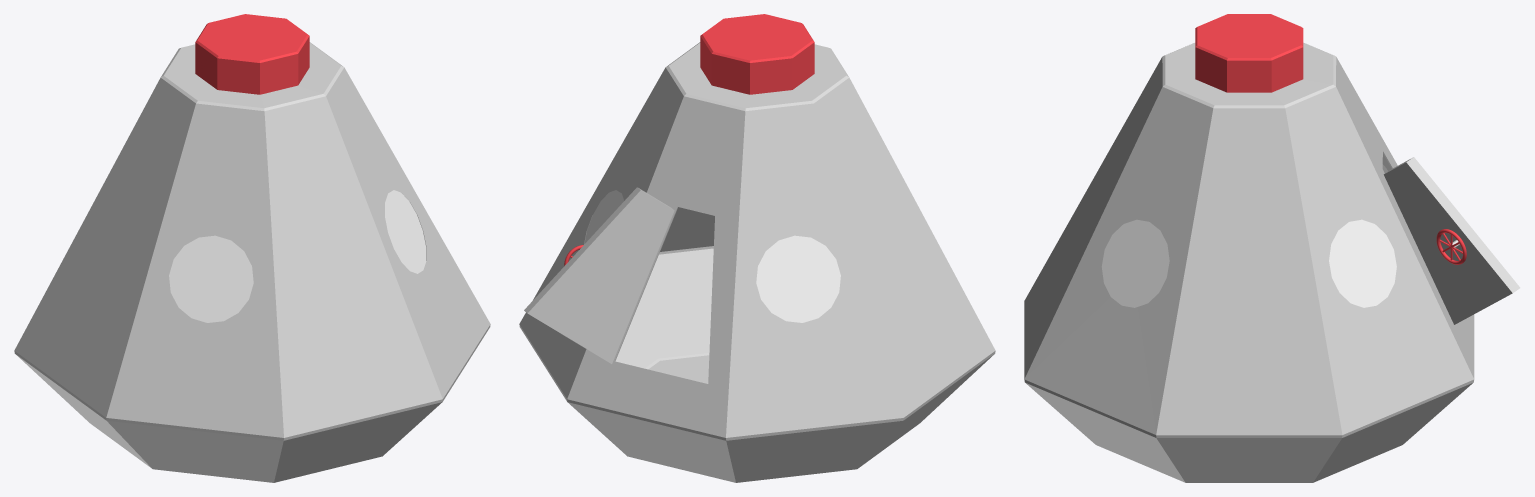
File: Pod.glb
The picture shows the model from 3 angles, left to right: view 1: azimuth 30°, elevation 25°; view 2: azimuth 150°, elevation 25°; view 3: azimuth 270°, elevation 25°; orthographic projection.
Parts seen in each view (by area): view 1: Pod, WindowOut, Top, WindowIn; view 2: Pod, Door, Top, WindowOut, WindowIn; view 3: Pod, WindowOut, Door, Top, WindowIn, Locker.
Part boxes in pixels (x1,y1,x2,y2): Pod: (14, 42, 490, 482); WindowOut: (169, 190, 426, 322); Top: (195, 14, 309, 94); WindowIn: (169, 191, 425, 320); Pod: (519, 42, 995, 482); Door: (524, 187, 674, 363); Top: (700, 14, 814, 94); WindowOut: (584, 190, 840, 322); WindowIn: (588, 190, 840, 322); Pod: (1024, 42, 1474, 482); WindowOut: (1101, 164, 1396, 307); Door: (1383, 157, 1520, 324); Top: (1195, 14, 1303, 92); WindowIn: (1102, 165, 1396, 307); Locker: (1436, 229, 1466, 264).
Bounding box in the file's own units: 3.29 × 3.09 × 3.62.
